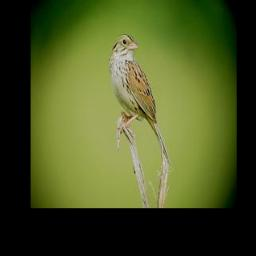Sparrow: (108, 31, 160, 150)
